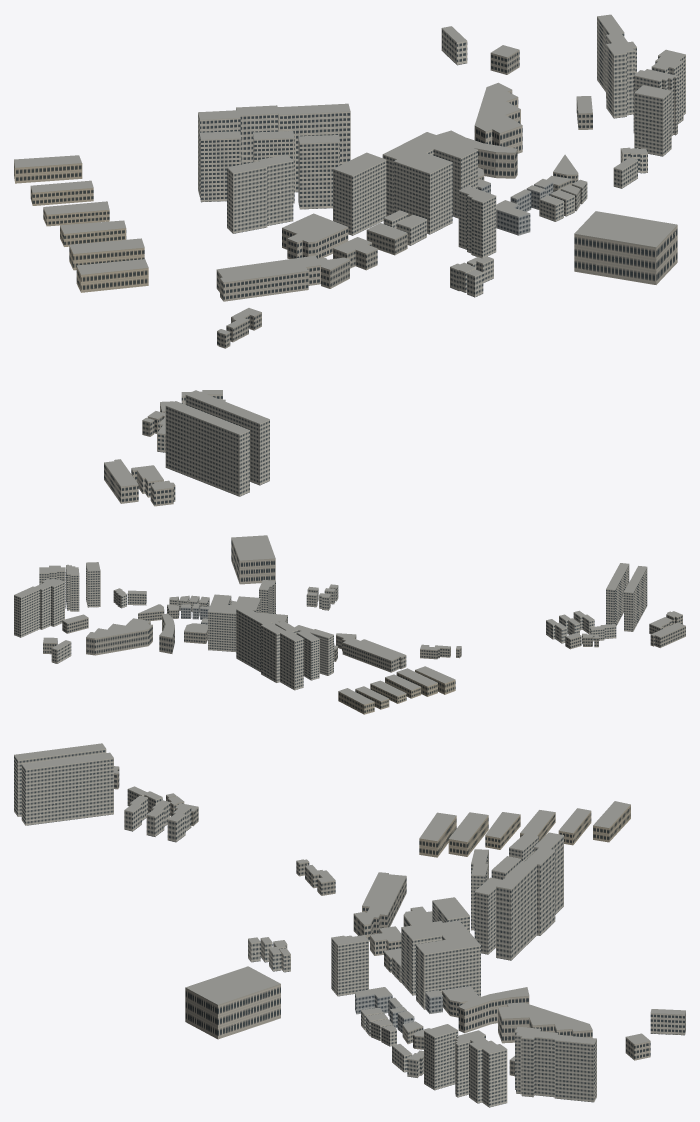
3 views of the same model, one above another, from view 1: azimuth 30°, elevation 25°; view 2: azimuth 150°, elevation 25°; view 3: azimuth 270°, elevation 25° (orthographic). The views are drawn at different scales.
Visible parts, largest first — view 1: ctx-apartments, ctx-roof, ctx-other, ctx-house, ctx-commercial; view 2: ctx-apartments, ctx-roof, ctx-other, ctx-house, ctx-commercial; view 3: ctx-apartments, ctx-roof, ctx-other, ctx-house, ctx-commercial.
Boxes of the visible parts, left/top/right/bottom form: ctx-apartments: left=157, top=16, right=685, bottom=496; ctx-roof: left=14, top=14, right=685, bottom=489; ctx-other: left=104, top=50, right=677, bottom=506; ctx-house: left=14, top=161, right=148, bottom=292; ctx-commercial: left=478, top=182, right=553, bottom=235; ctx-apartments: left=14, top=564, right=647, bottom=690; ctx-roof: left=14, top=535, right=685, bottom=704; ctx-other: left=43, top=538, right=685, bottom=672; ctx-house: left=338, top=670, right=455, bottom=714; ctx-commercial: left=181, top=605, right=208, bottom=624; ctx-apartments: left=14, top=749, right=685, bottom=1107; ctx-roof: left=14, top=743, right=685, bottom=1060; ctx-other: left=114, top=767, right=650, bottom=1076; ctx-house: left=419, top=805, right=630, bottom=857; ctx-commercial: left=355, top=992, right=442, bottom=1033.
Size of the model in its own units: 692 by 88.71 by 554.
5 materials, 4 textured.
